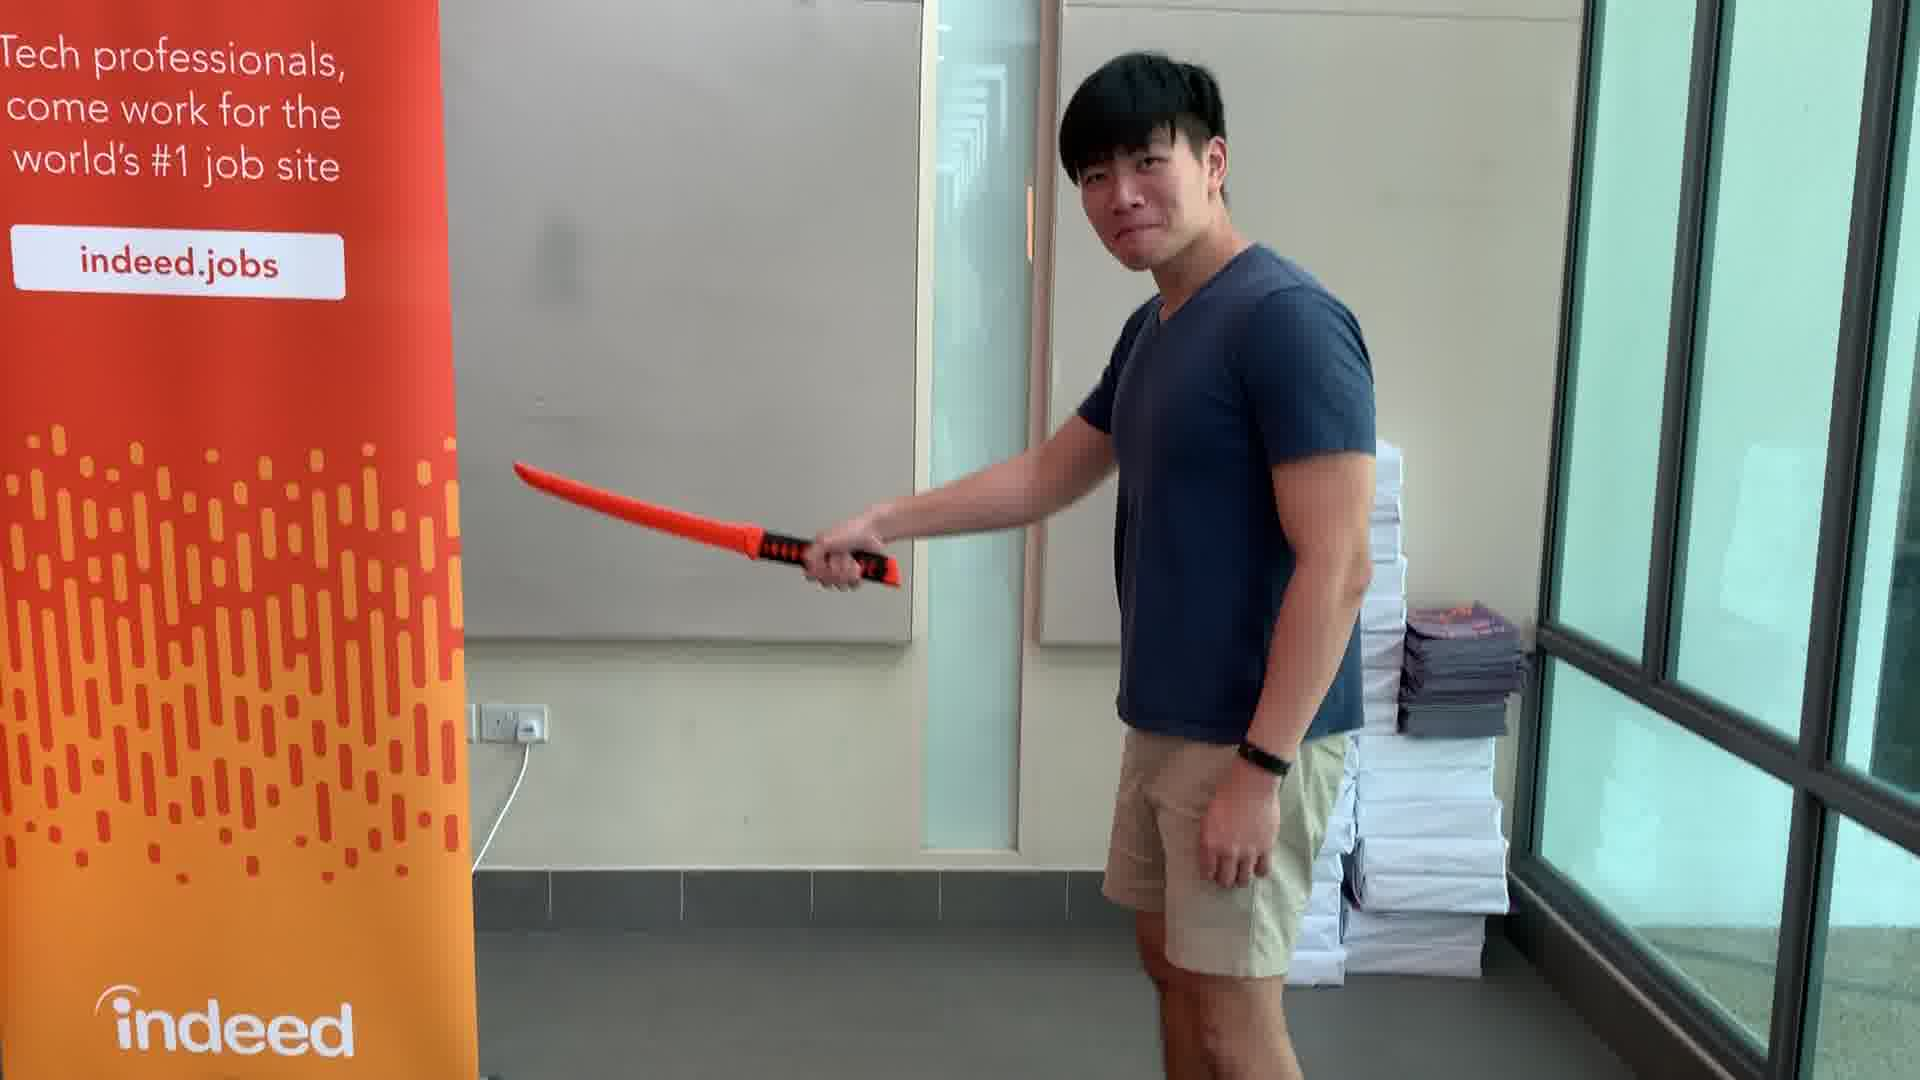knife: (500, 448, 909, 592)
